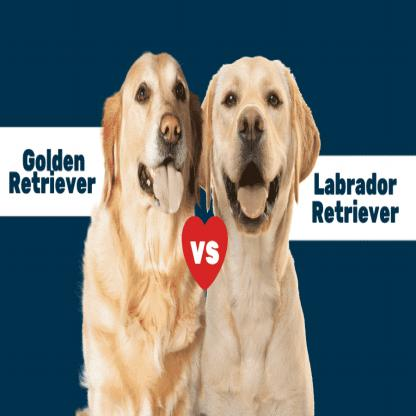Labarador Retriever: (199, 51, 320, 416), (84, 50, 203, 416)
